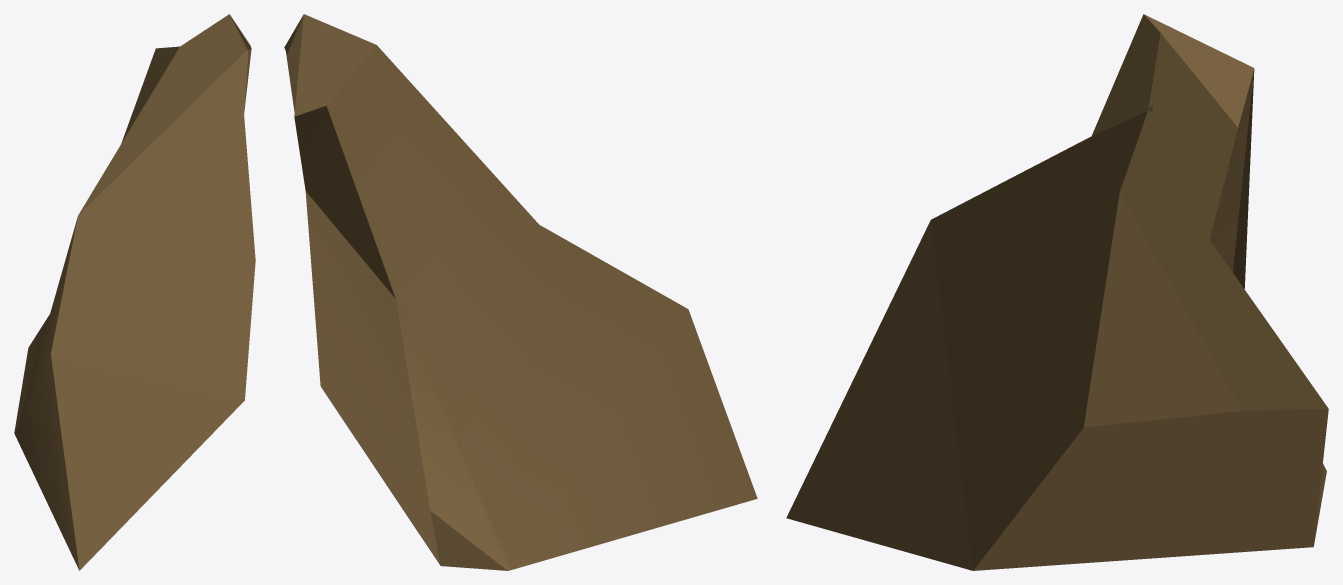
File: FlintShard.fbx
3 renders of one model, left to right at view 1: azimuth 30°, elevation 25°; view 2: azimuth 150°, elevation 25°; view 3: azimuth 270°, elevation 25°, orthographic. The views are drawn at different scales.
Parts seen in each view (by area): view 1: Cube_cell.042; view 2: Cube_cell.042; view 3: Cube_cell.042.
Part boxes in pixels (left/top/right/bottom): Cube_cell.042: left=14, top=14, right=255, bottom=570; Cube_cell.042: left=284, top=14, right=757, bottom=570; Cube_cell.042: left=786, top=14, right=1328, bottom=570.
Size of the model in its own units: 203 by 287 by 201.
